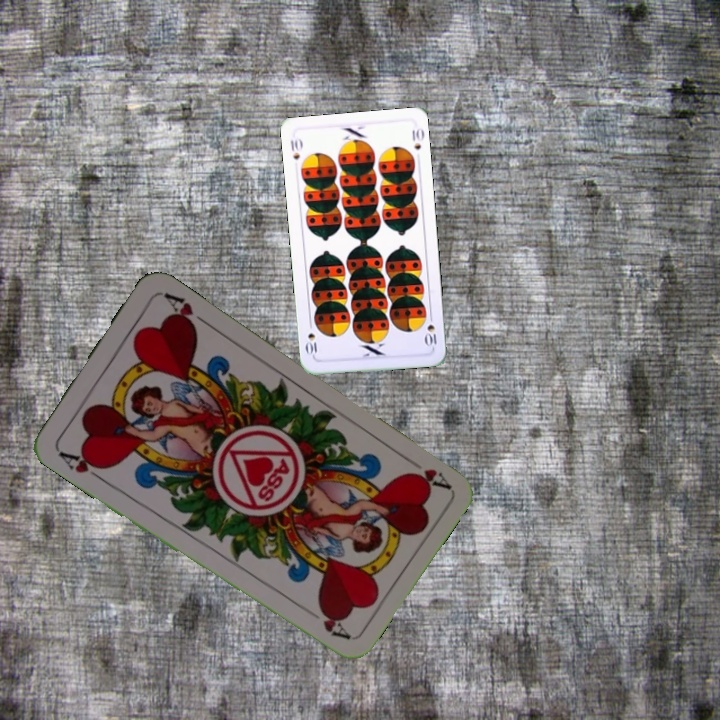HA: (53, 445, 110, 483), (399, 452, 452, 492)
S10: (421, 310, 439, 349), (287, 135, 305, 162)
